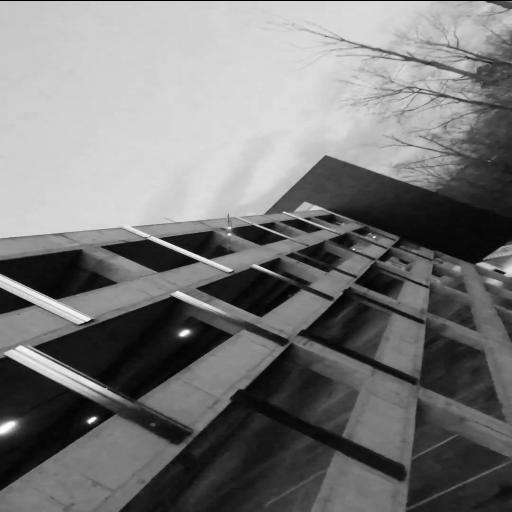uav: (217, 210, 237, 250)
